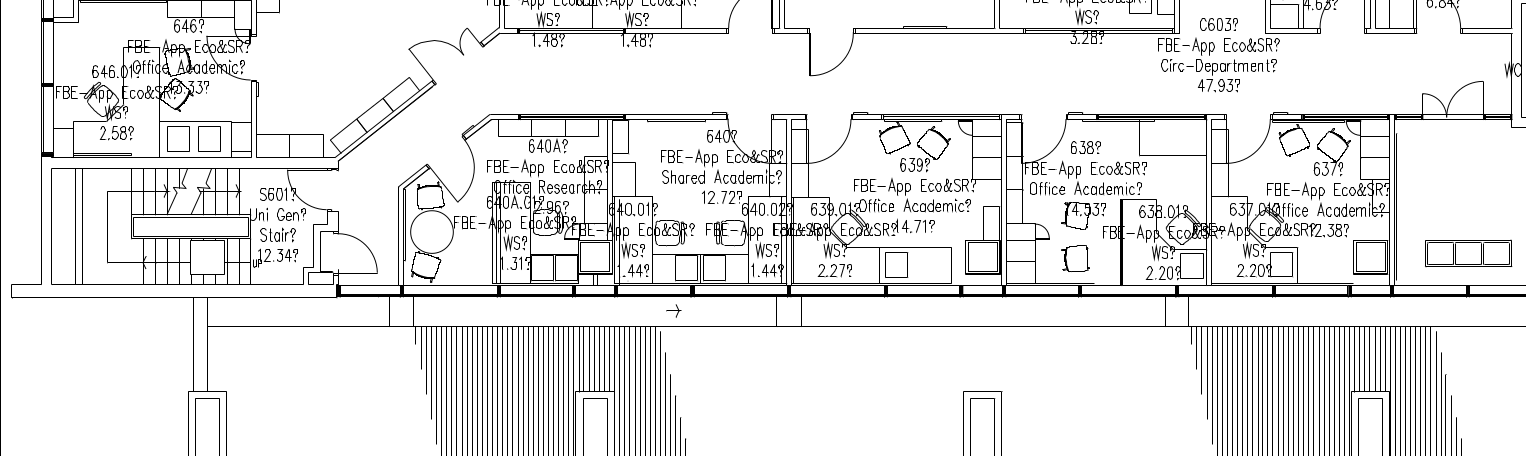door: (402, 11, 488, 94), (1418, 63, 1490, 128), (423, 125, 477, 205), (802, 21, 866, 87), (1014, 106, 1076, 166), (1224, 107, 1274, 170), (330, 221, 380, 278), (285, 166, 335, 223)
